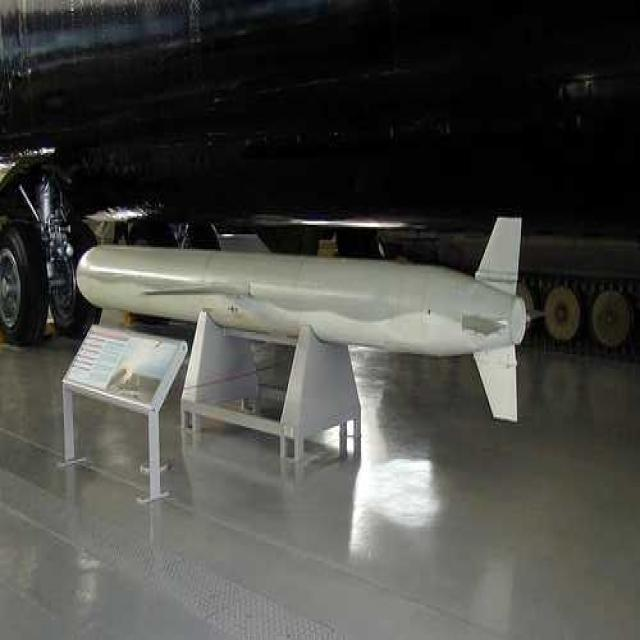missile: (74, 216, 526, 428)
